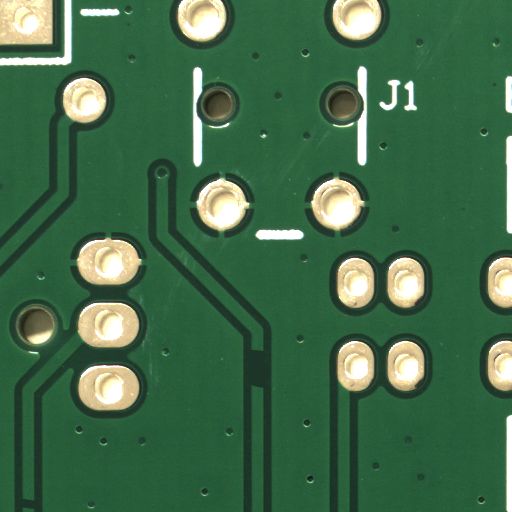Open_circuit: (256, 368, 272, 408), (28, 504, 43, 512)
